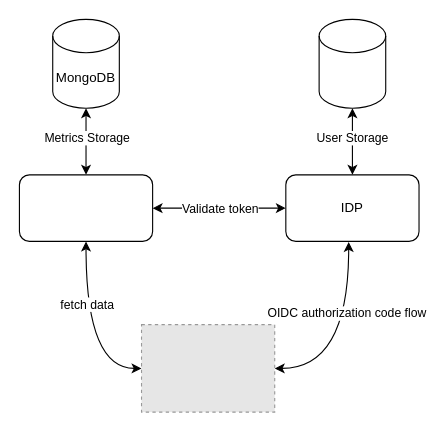
This 446x432 diagram has some shape labels left out. Grey dashed boxes stand in for pictures. The centre of each missing label's shape, as x and y in pixels:
"In Memory" goes at (x=352, y=63).
"Metric Server" goes at (x=85, y=207).
